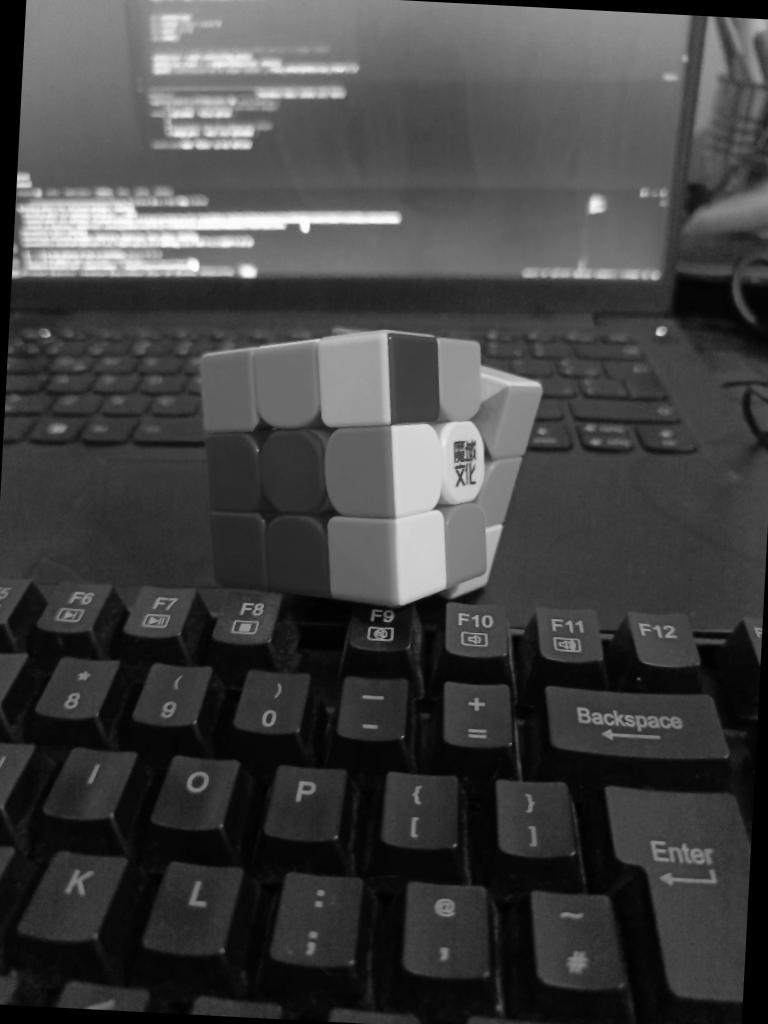rubik: (186, 317, 546, 613)
